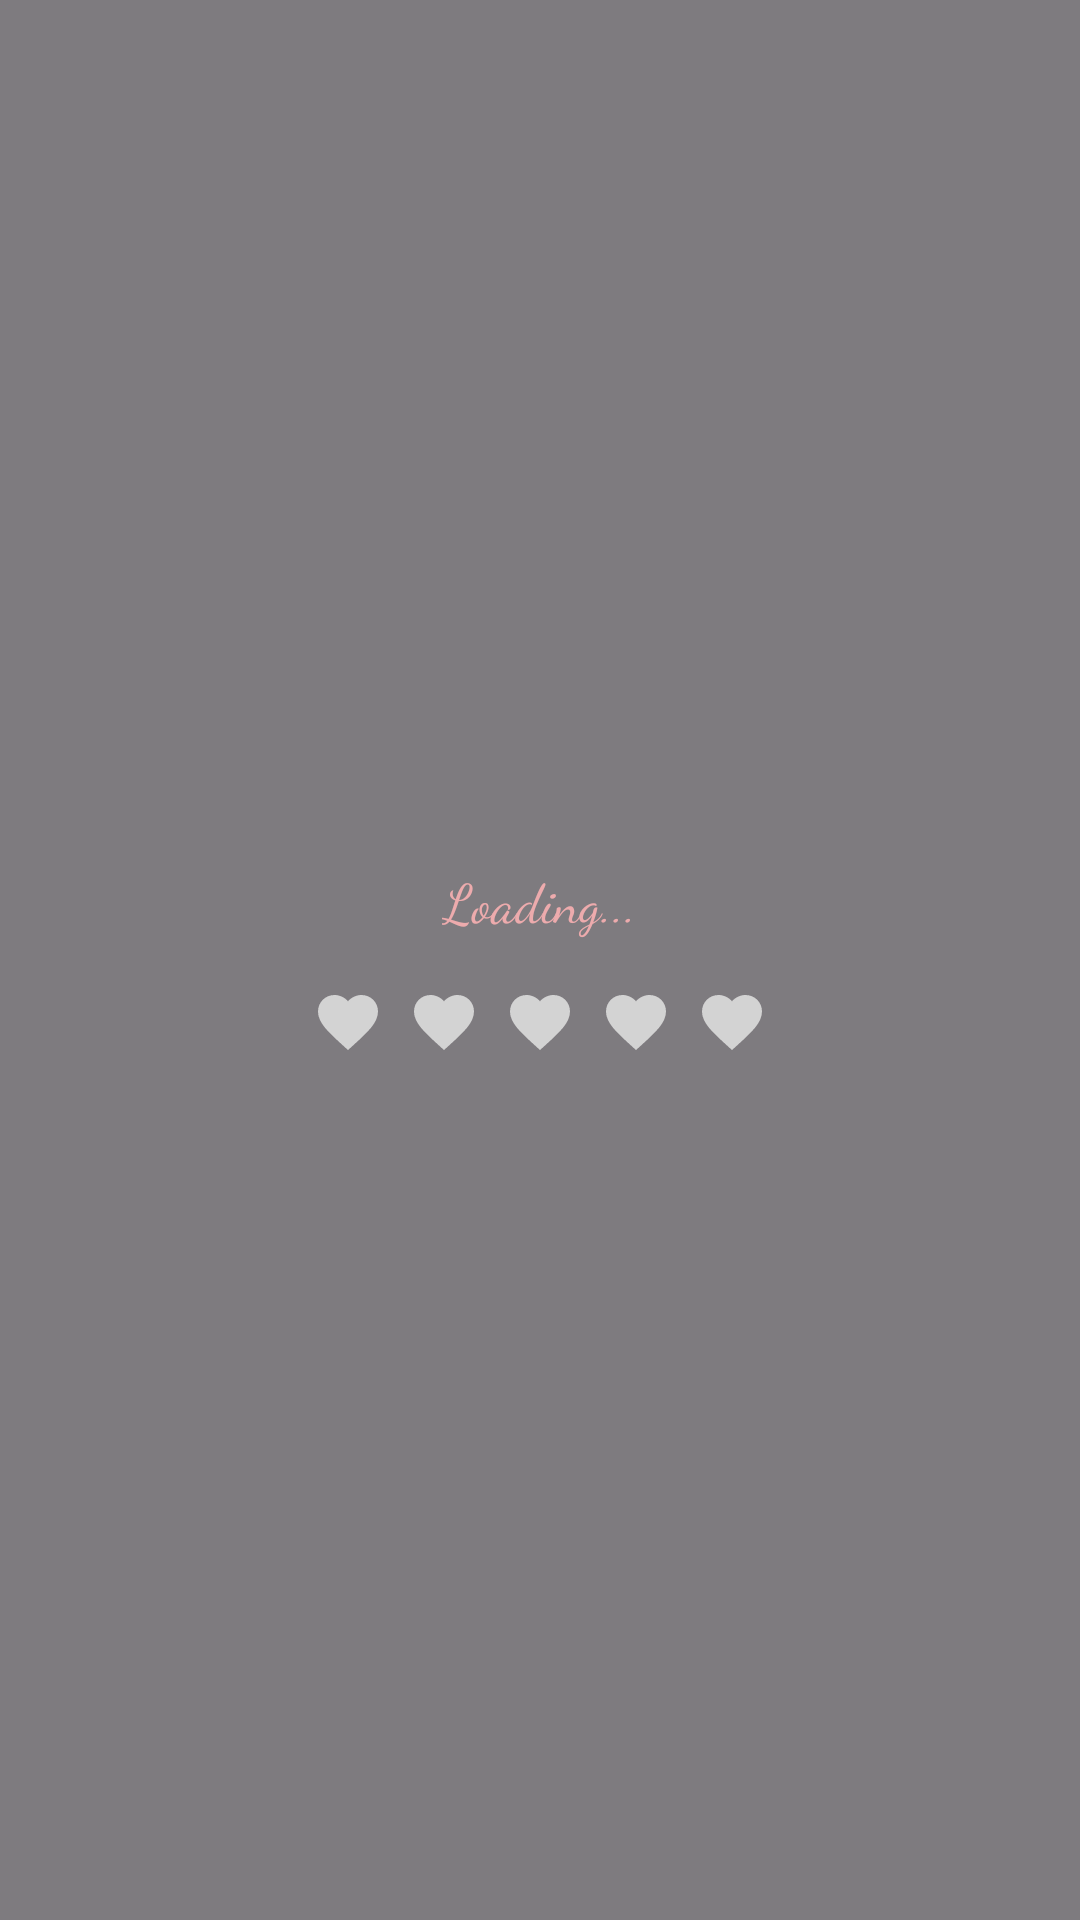

Icon click points for this 1080*1920 phone screenshot, format [x,y]:
heart: [348,1022], [444,1022], [540,1022], [636,1022], [732,1022]
